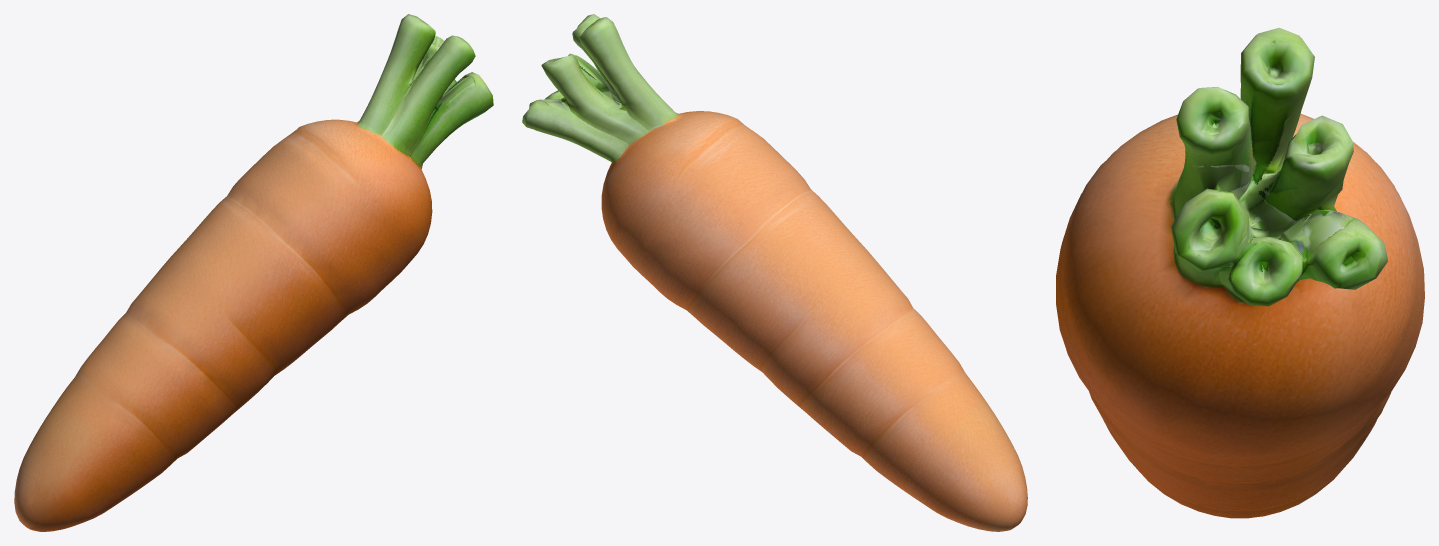
The model's file is carrot.fbx.
The picture shows the model from 3 angles, left to right: view 1: azimuth 30°, elevation 25°; view 2: azimuth 150°, elevation 25°; view 3: azimuth 270°, elevation 25°; orthographic projection. The views are drawn at different scales.
Parts seen in each view (by area): view 1: texture_mapping; view 2: texture_mapping; view 3: texture_mapping.
Part boxes in pixels (x1,y1,x2,y2): texture_mapping: (14,14,493,531); texture_mapping: (522,14,1027,531); texture_mapping: (1056,27,1424,518).
Bounding box in the file's own units: 1 × 0.3459 × 0.8572.
Materials: 1 (1 with a texture image).
